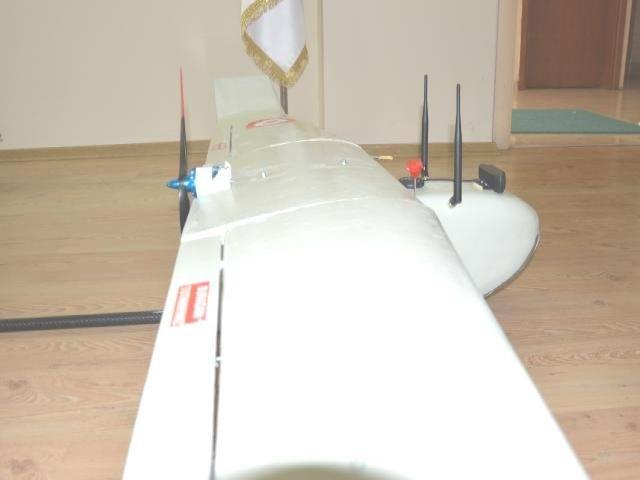iha: (120, 69, 596, 480)
